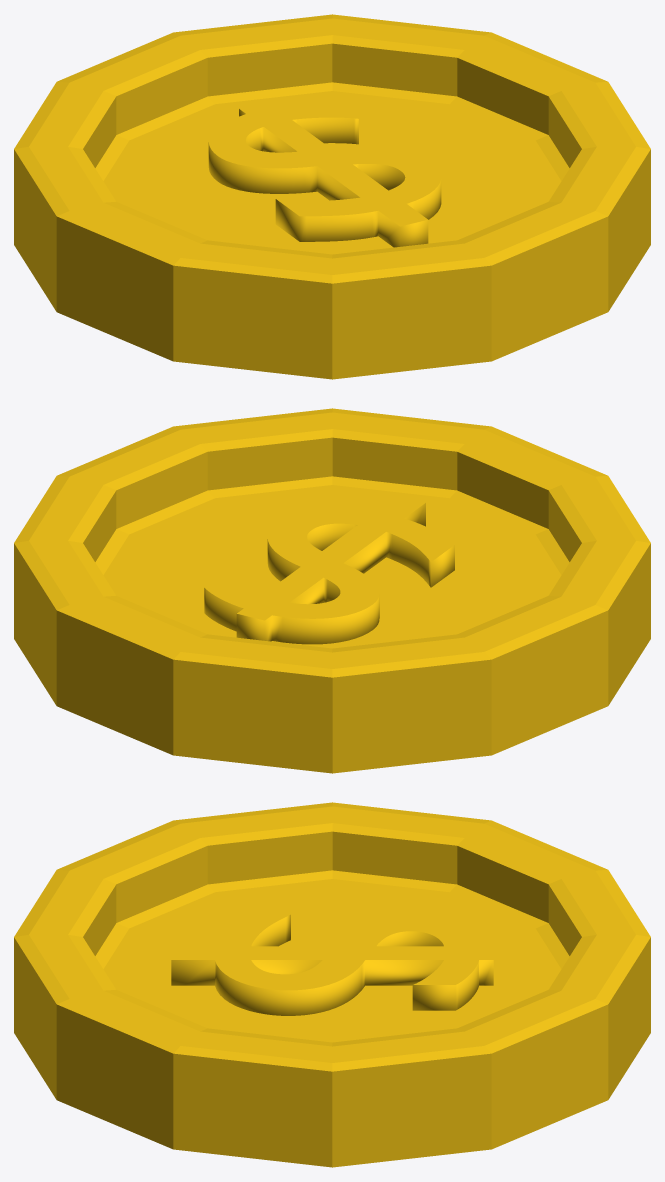
Rendered from Coin.fbx.
3 views of the same model, one above another, from view 1: azimuth 30°, elevation 25°; view 2: azimuth 150°, elevation 25°; view 3: azimuth 270°, elevation 25° (orthographic).
Visible parts, largest first — view 1: Text; view 2: Text; view 3: Text.
Part boxes in pixels (x1,y1,x2,y2): Text: (14, 14, 650, 379); Text: (14, 408, 650, 773); Text: (14, 802, 650, 1167).
Bounding box in the file's own units: 200 × 34.78 × 200.
